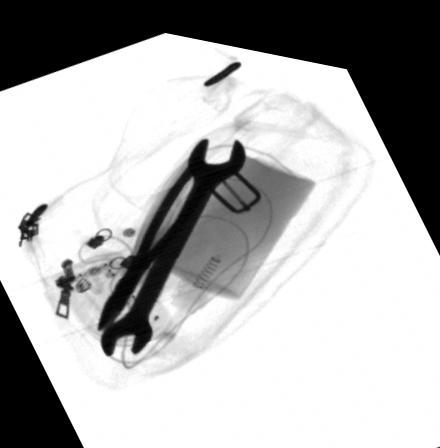Pliers: (95, 145, 223, 325)
Wrench: (94, 125, 247, 354)
